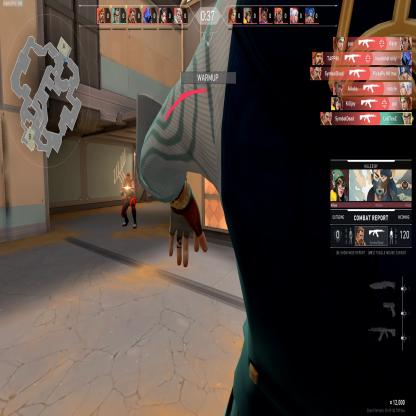enemy: (119, 171, 138, 231)
